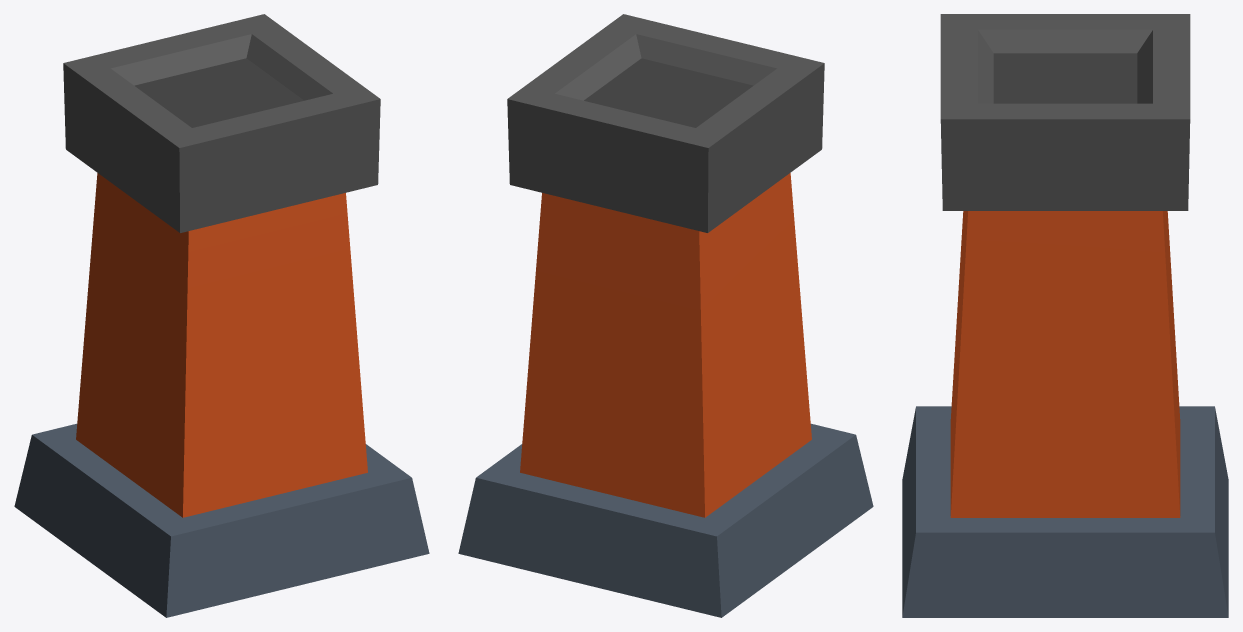
Rendered from Chimney_3_B_1.fbx.
The picture shows the model from 3 angles, left to right: view 1: azimuth 30°, elevation 25°; view 2: azimuth 150°, elevation 25°; view 3: azimuth 270°, elevation 25°; orthographic projection. The views are drawn at different scales.
Visible parts, largest first — view 1: Chimney_3_B_1; view 2: Chimney_3_B_1; view 3: Chimney_3_B_1.
Boxes of the visible parts, <box> form: Chimney_3_B_1: <box>14,14,429,617</box>; Chimney_3_B_1: <box>458,14,873,617</box>; Chimney_3_B_1: <box>902,14,1228,617</box>.
Size of the model in its own units: 63.94 by 104 by 63.94.
